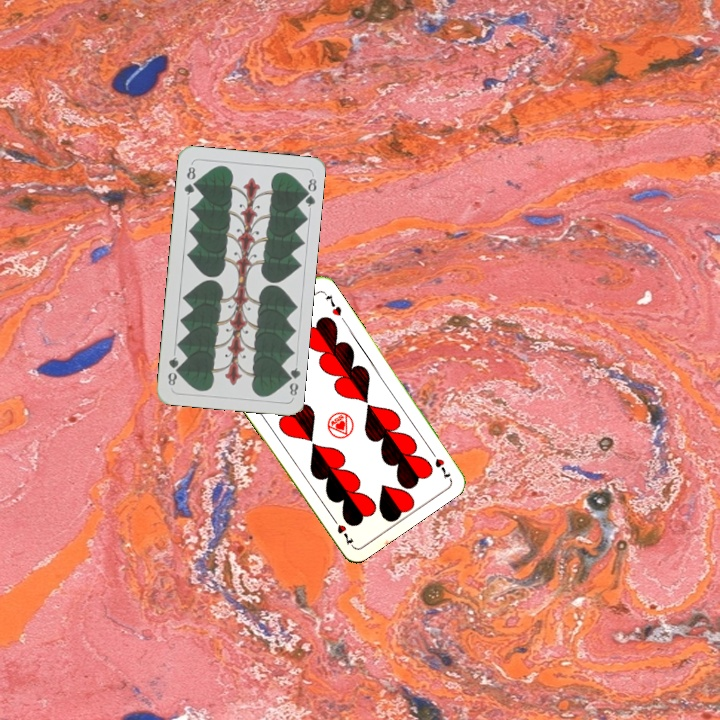G8: (281, 363, 302, 398), (180, 162, 199, 198)
H7: (426, 446, 453, 482)
